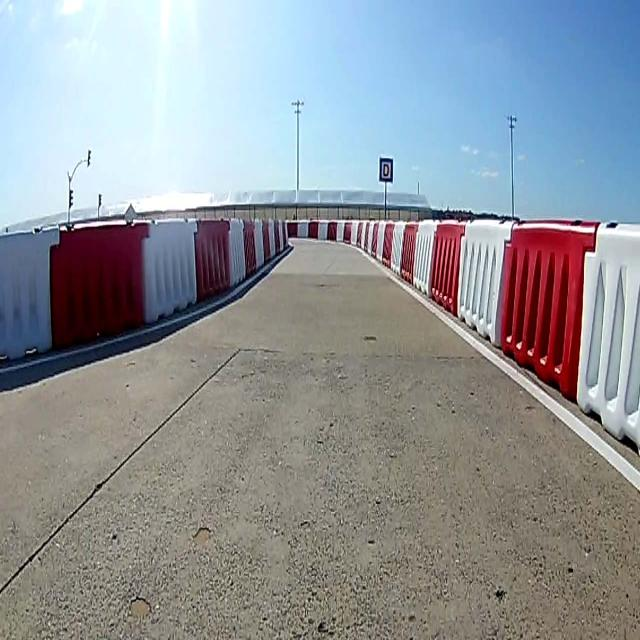durak: (379, 155, 393, 185)
